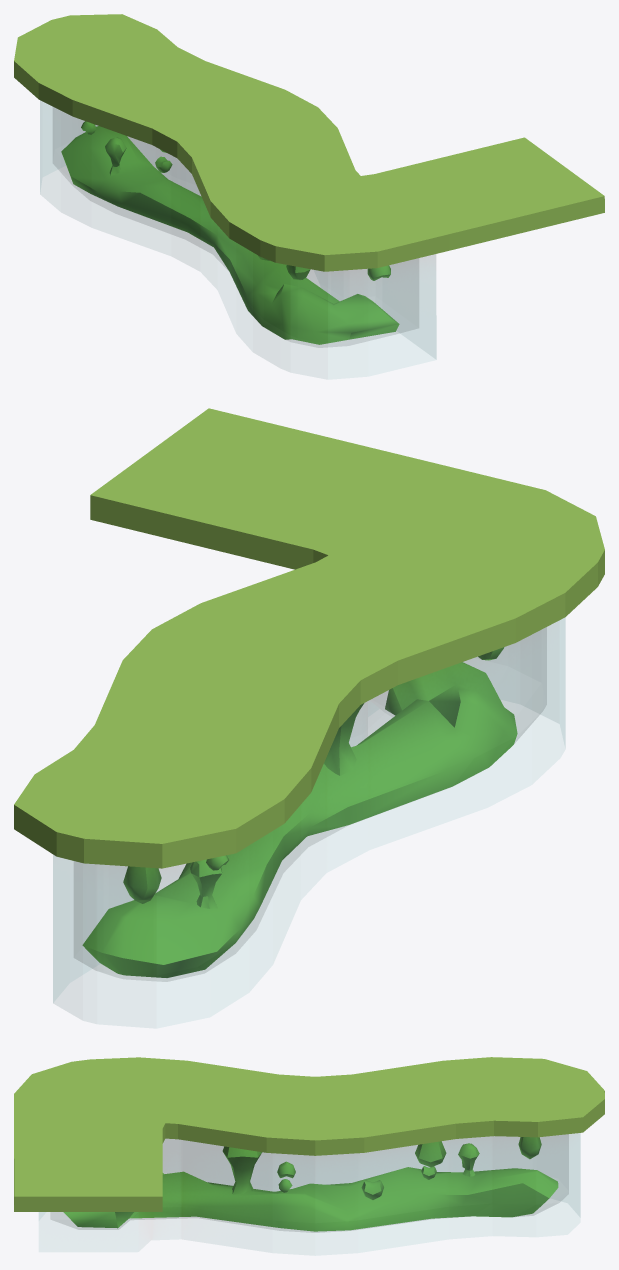
Rendered from PROP_061_Bar.fbx.
3 renders of one model, top to bottom at view 1: azimuth 30°, elevation 25°; view 2: azimuth 150°, elevation 25°; view 3: azimuth 270°, elevation 25°, orthographic. The views are drawn at different scales.
Visible parts, largest first — view 1: Cristal; view 2: Cristal; view 3: Cristal.
Part boxes in pixels (x1,y1,x2,y2): Cristal: (14,14,604,378); Cristal: (14,408,604,1027); Cristal: (14,1057,604,1255).
Size of the model in its own units: 2.45 by 1.03 by 4.39.
Materials: 3 (3 with a texture image).
